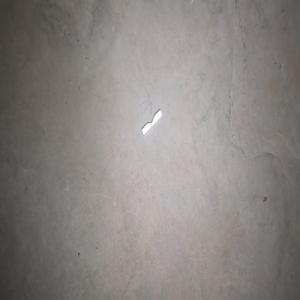ClampPart: (141, 108, 162, 136)
